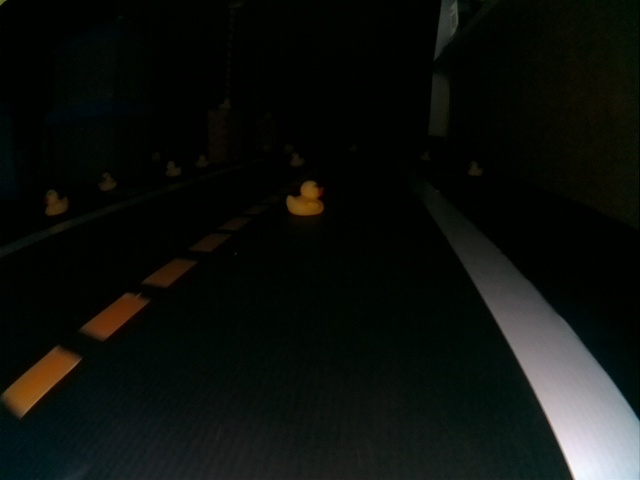Duckie: (288, 183, 322, 215), (43, 189, 66, 215), (167, 162, 175, 171)
